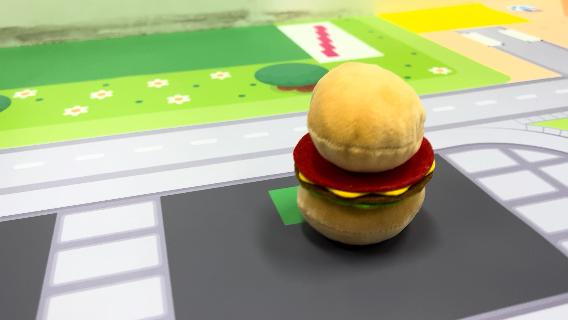burger: (290, 59, 440, 248)
